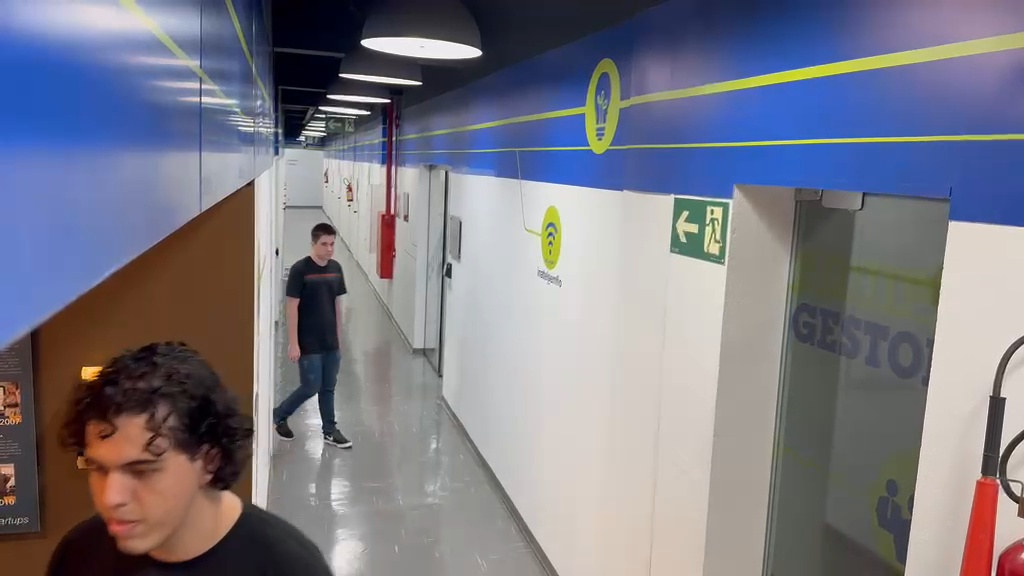person: (46, 341, 334, 572), (273, 221, 354, 448)
